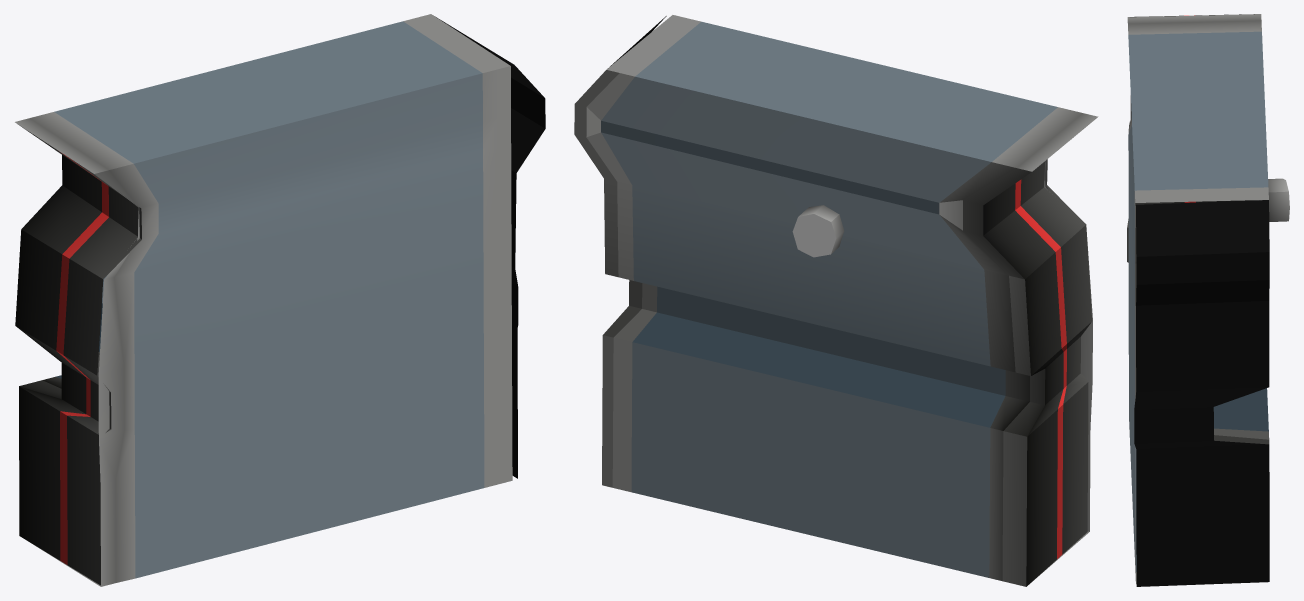
File: puertaSecreta.fbx
The picture shows the model from 3 angles, left to right: view 1: azimuth 30°, elevation 25°; view 2: azimuth 150°, elevation 25°; view 3: azimuth 270°, elevation 25°; orthographic projection. The views are drawn at different scales.
Parts seen in each view (by area): view 1: puertaSecreta; view 2: puertaSecreta; view 3: puertaSecreta.
Boxes of the visible parts, left/top/right/bottom form: puertaSecreta: left=15, top=14, right=545, bottom=586; puertaSecreta: left=574, top=15, right=1098, bottom=586; puertaSecreta: left=1127, top=14, right=1289, bottom=586.
Bounding box in the file's own units: 724 × 624 × 241.
